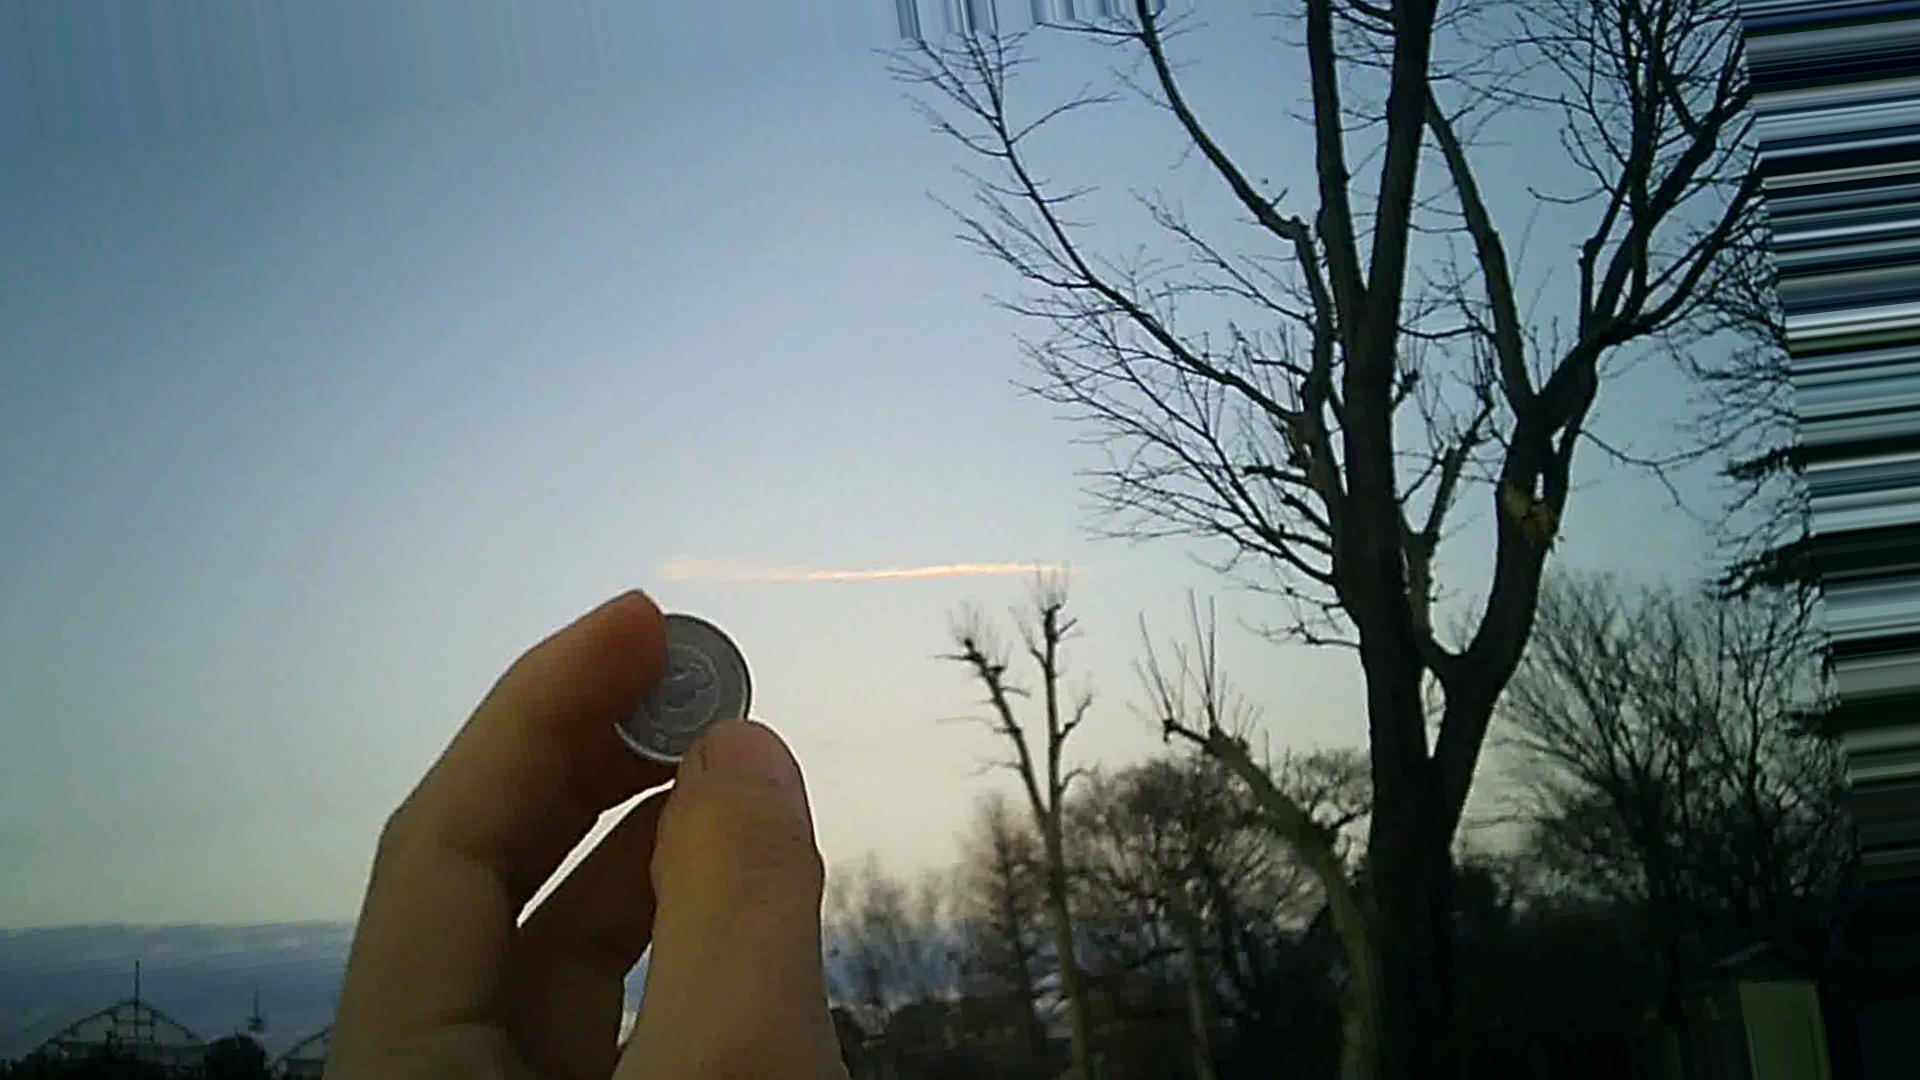1 Yen: (592, 597, 775, 764)
